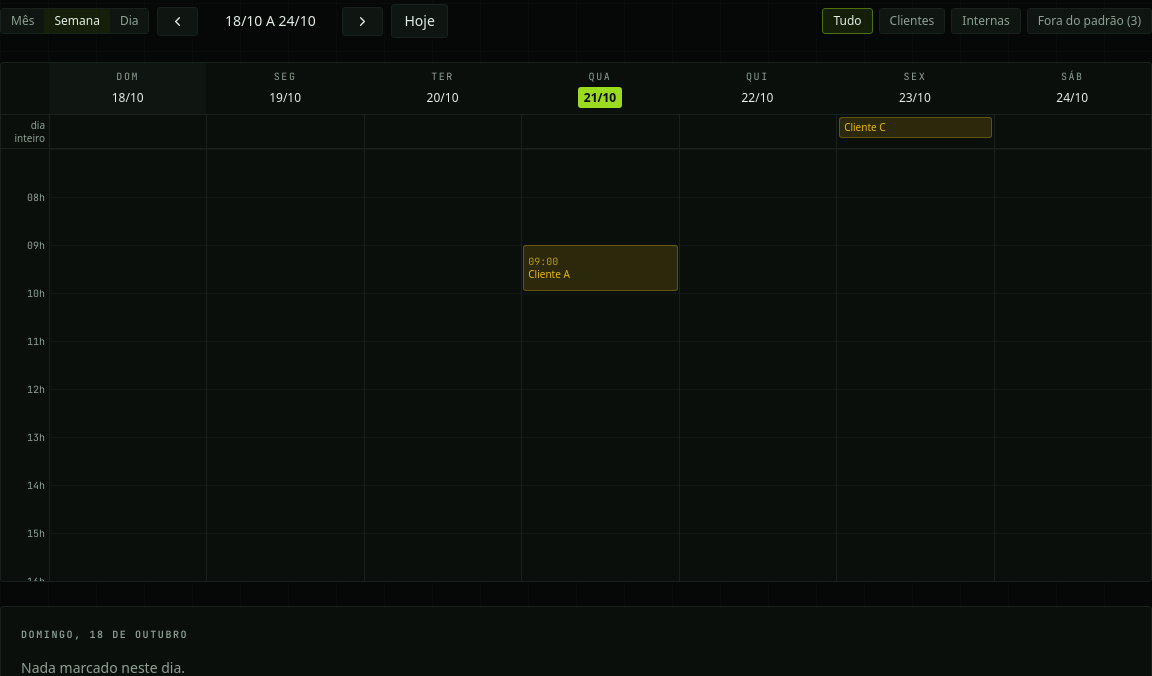
Scenario: P2 · a tela da Agenda › clicar num evento da semana abre o dia por extenso no cartão de baixo
Step 1. Click the button "09:00 Cliente A" → click(600, 268), box [523, 245, 678, 291]
(page scrolled)
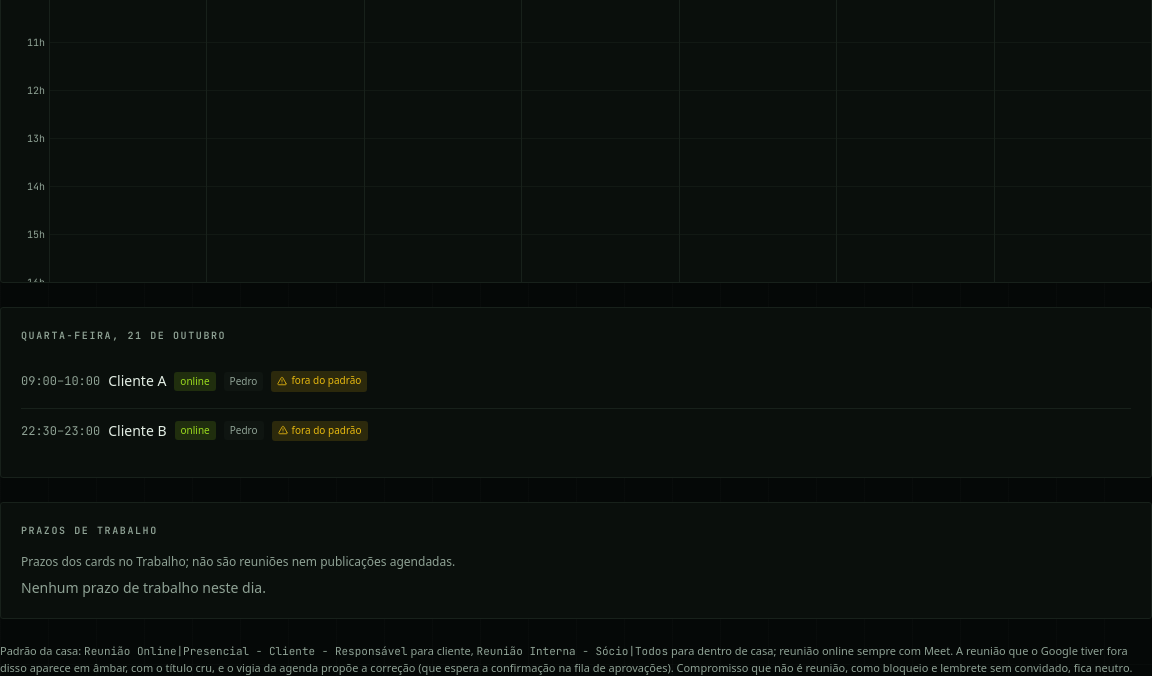
Expected: the text "09:00–10:00" is shown, [21, 373, 100, 389]
